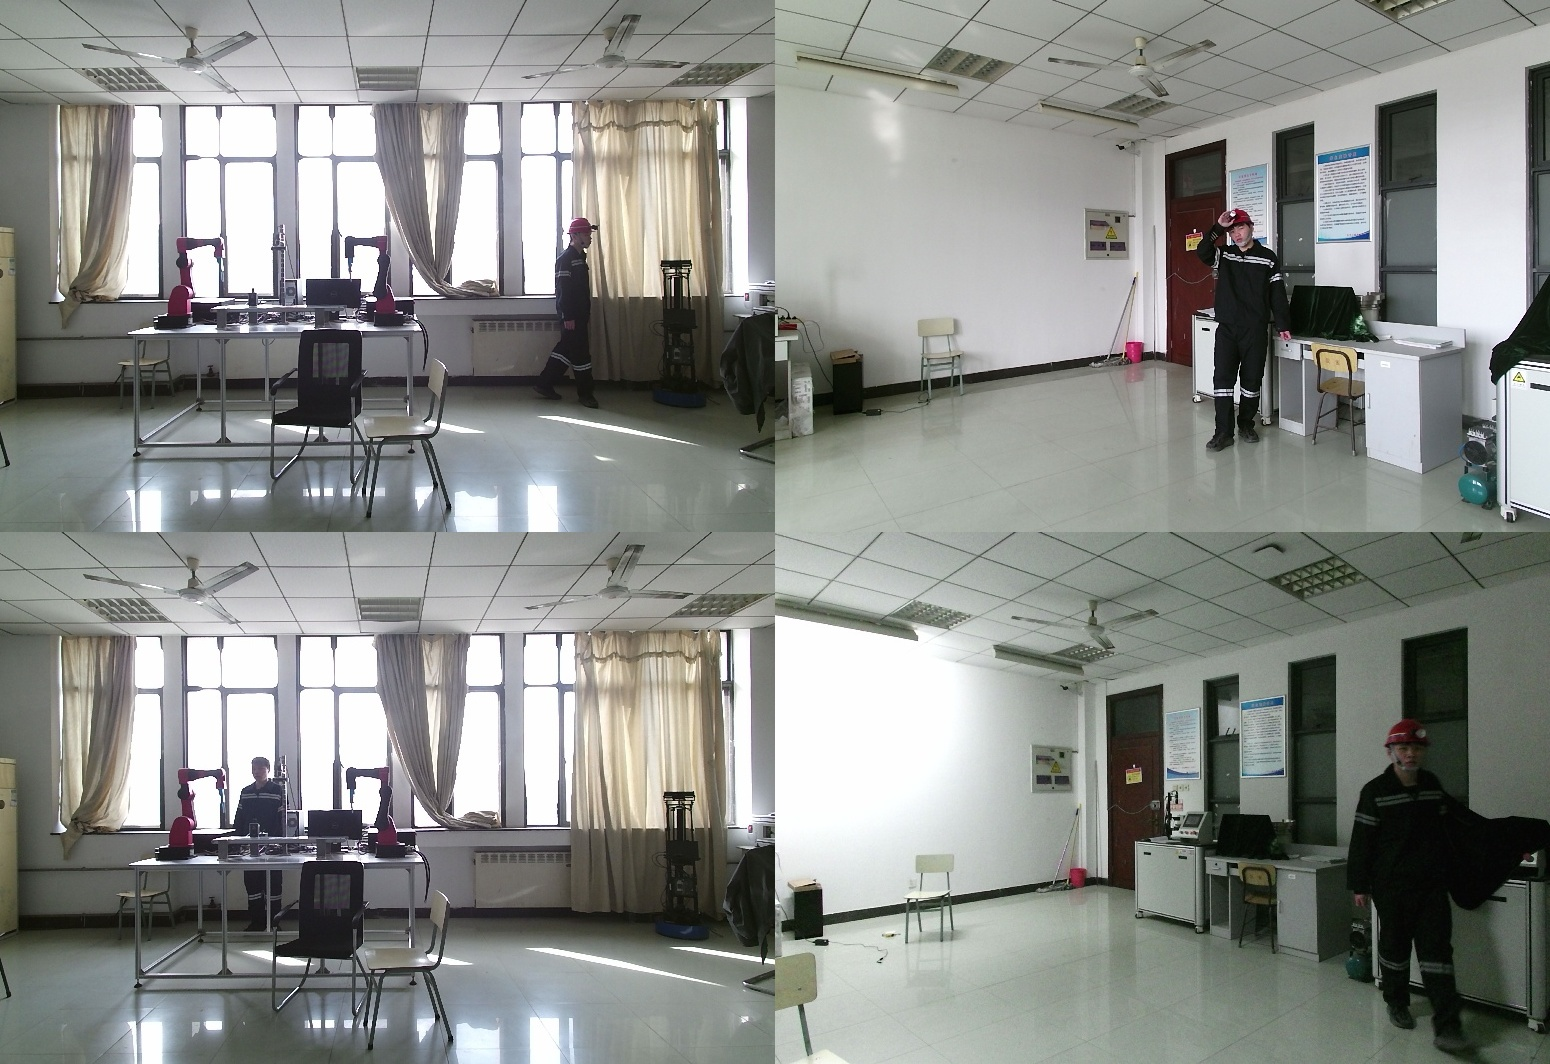person: (1354, 719, 1485, 1040), (1200, 210, 1298, 450), (538, 217, 604, 411), (233, 758, 288, 941)
